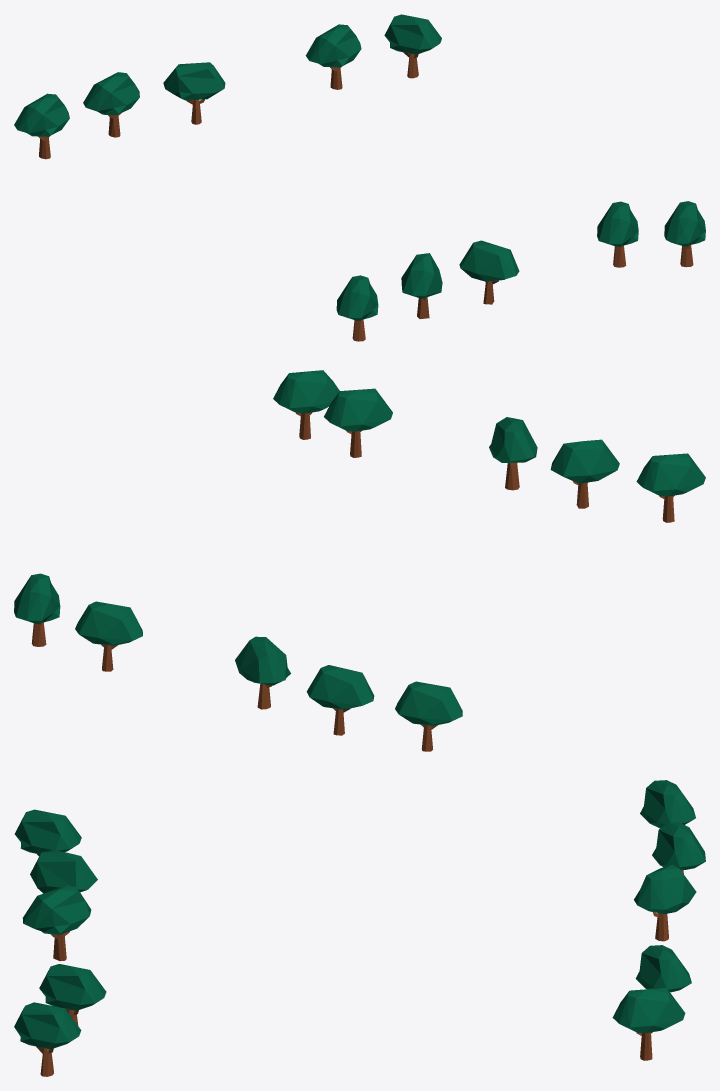
File: Level2WorldZone4.glb
3 renders of one model, top to bottom at view 1: azimuth 30°, elevation 25°; view 2: azimuth 150°, elevation 25°; view 3: azimuth 270°, elevation 25°, orthographic. The views are drawn at different scales.
Parts seen in each view (by area): view 1: check4_treesnshrubs; view 2: check4_treesnshrubs; view 3: check4_treesnshrubs.
Part boxes in pixels (x1,y1,x2,y2): check4_treesnshrubs: (14,14,705,341); check4_treesnshrubs: (14,370,705,751); check4_treesnshrubs: (14,780,705,1076).
Size of the model in its own units: 39.39 by 5.66 by 47.39.
Materials: 1 (1 with a texture image).
